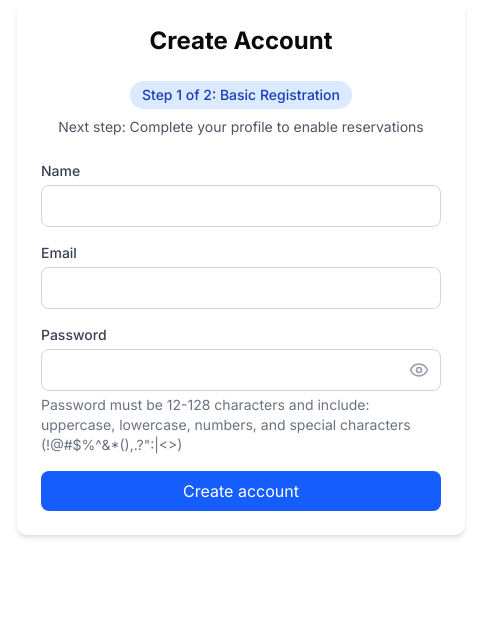
Test case: RegisterForm › handles registration API error
Type "Test User" into the field labelled "Name" at (241, 206), box [41, 185, 441, 227]
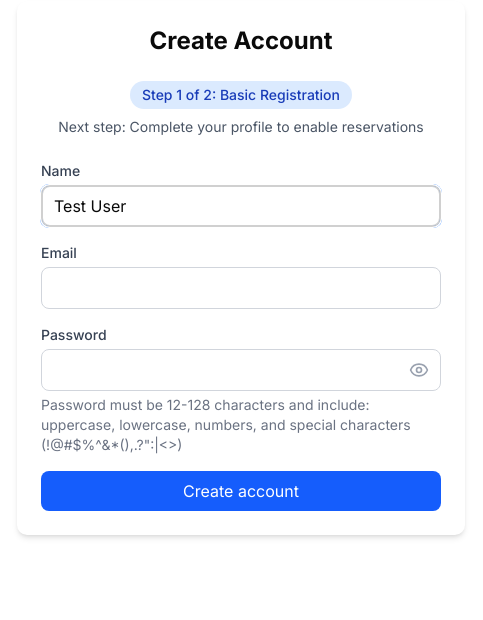
Type "test@example.com" into the field labelled "Email" at (241, 288), box [41, 267, 441, 309]
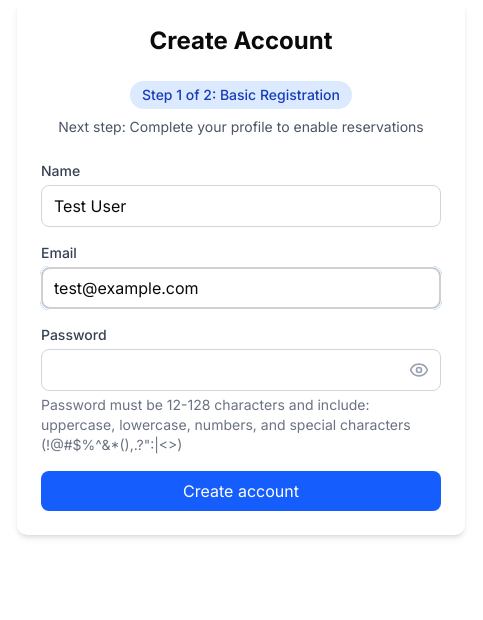
Type "TestPassword123!" into the password field labelled "Password" at (241, 370), box [41, 349, 441, 391]
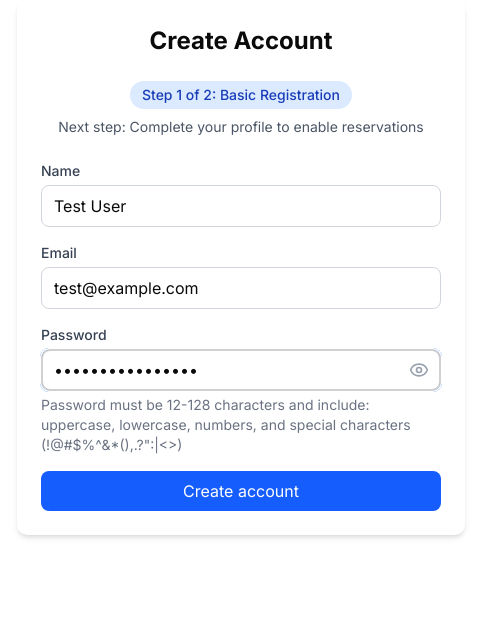
Click the button "Create account" at (241, 491), box [41, 471, 441, 511]
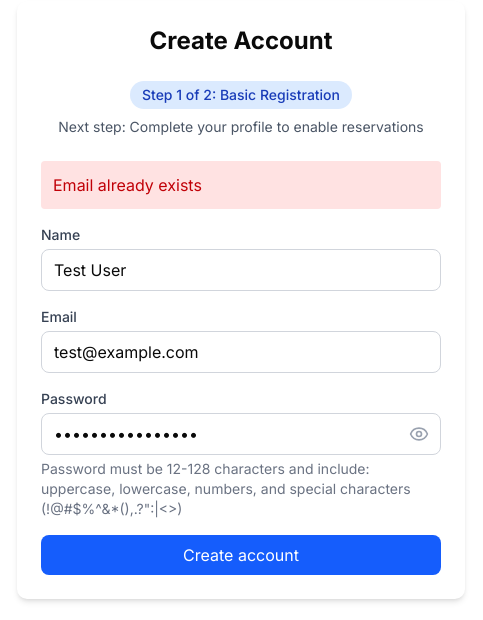
Check: the text "Email already exists" is shown, box [41, 161, 441, 209]
